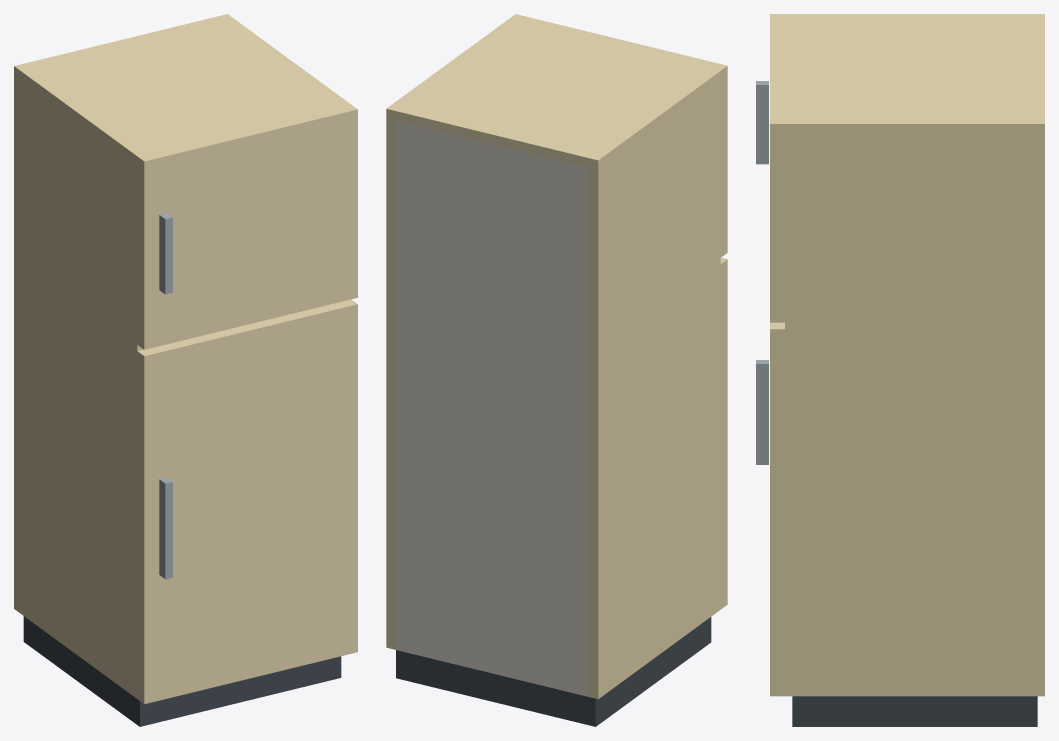
The model's file is GI_Fridge_01.glb.
3 renders of one model, left to right at view 1: azimuth 30°, elevation 25°; view 2: azimuth 150°, elevation 25°; view 3: azimuth 270°, elevation 25°, orthographic. The views are drawn at different scales.
Visible parts, largest first — view 1: GI_Fridge_01, Door, DoorFreezer; view 2: GI_Fridge_01, DoorFreezer, Door; view 3: GI_Fridge_01, Door, DoorFreezer.
Boxes of the visible parts, x1,y1,x2,y2 form: GI_Fridge_01: [14, 14, 350, 726]; Door: [137, 299, 357, 704]; DoorFreezer: [137, 104, 357, 349]; GI_Fridge_01: [386, 19, 720, 726]; DoorFreezer: [509, 14, 727, 257]; Door: [720, 257, 727, 609]; GI_Fridge_01: [785, 14, 1044, 726]; Door: [756, 322, 784, 696]; DoorFreezer: [756, 14, 784, 322].
Size of the model in its own units: 0.7 by 1.8 by 0.7775.
Materials: 2 (2 with a texture image).
